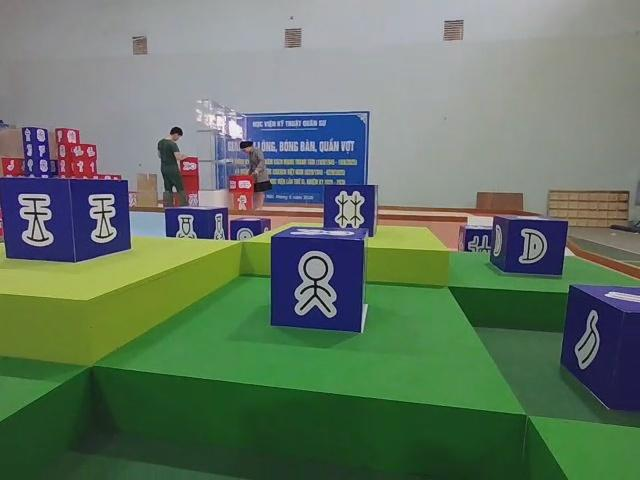R2 Real Blue: (0, 178, 131, 265), (273, 228, 370, 335), (564, 284, 640, 415), (489, 216, 568, 280), (323, 184, 378, 239), (166, 207, 230, 240), (459, 222, 496, 251), (228, 216, 269, 239)
